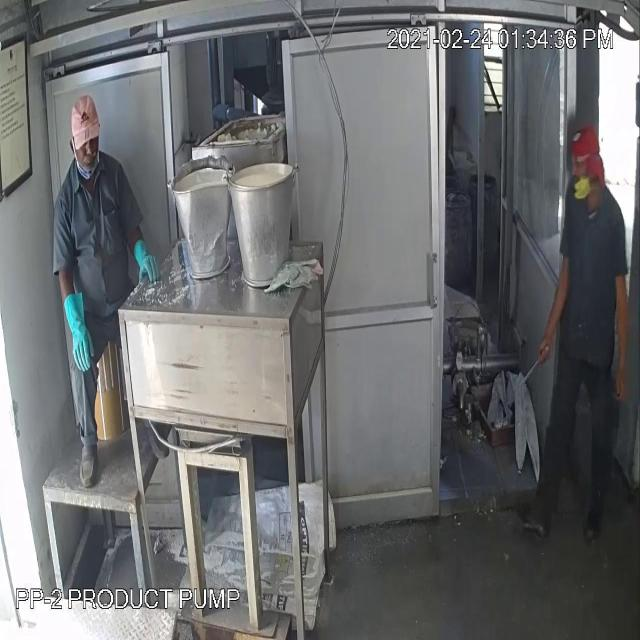no-helmet: (61, 86, 110, 154)
